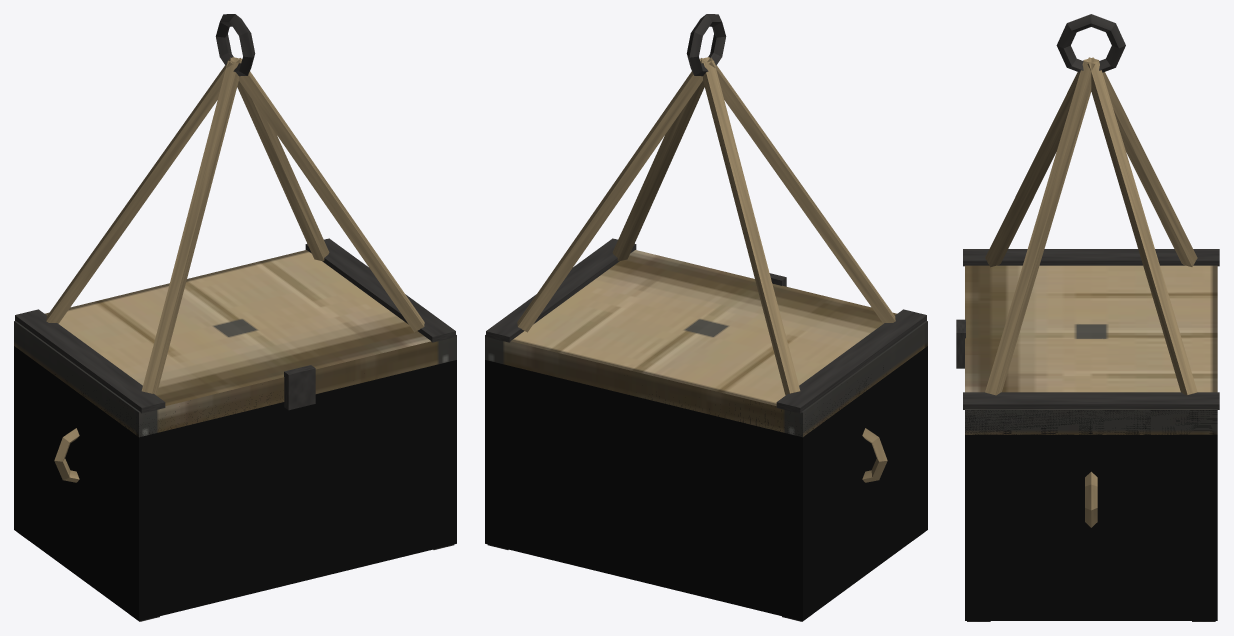
File: crate_hung.fbx
3 views of the same model, side by side, from view 1: azimuth 30°, elevation 25°; view 2: azimuth 150°, elevation 25°; view 3: azimuth 270°, elevation 25° (orthographic).
Visible parts, largest first — view 1: col_body, lid, sling, crate; view 2: col_body, lid, sling, crate; view 3: col_body, lid, sling, crate.
Part boxes in pixels (left/top/right/bottom): col_body: left=14, top=346, right=456, bottom=621; lid: left=14, top=238, right=456, bottom=437; sling: left=46, top=14, right=424, bottom=395; crate: left=24, top=428, right=454, bottom=621; col_body: left=485, top=346, right=927, bottom=621; lid: left=485, top=238, right=927, bottom=437; sling: left=517, top=14, right=895, bottom=395; crate: left=487, top=428, right=917, bottom=621; col_body: left=965, top=410, right=1217, bottom=620; lid: left=956, top=249, right=1219, bottom=434; sling: left=985, top=14, right=1197, bottom=395; crate: left=967, top=471, right=1215, bottom=621.
Bounding box in the file's own units: 1.07 × 1.48 × 0.667.
1 material, 1 textured.
